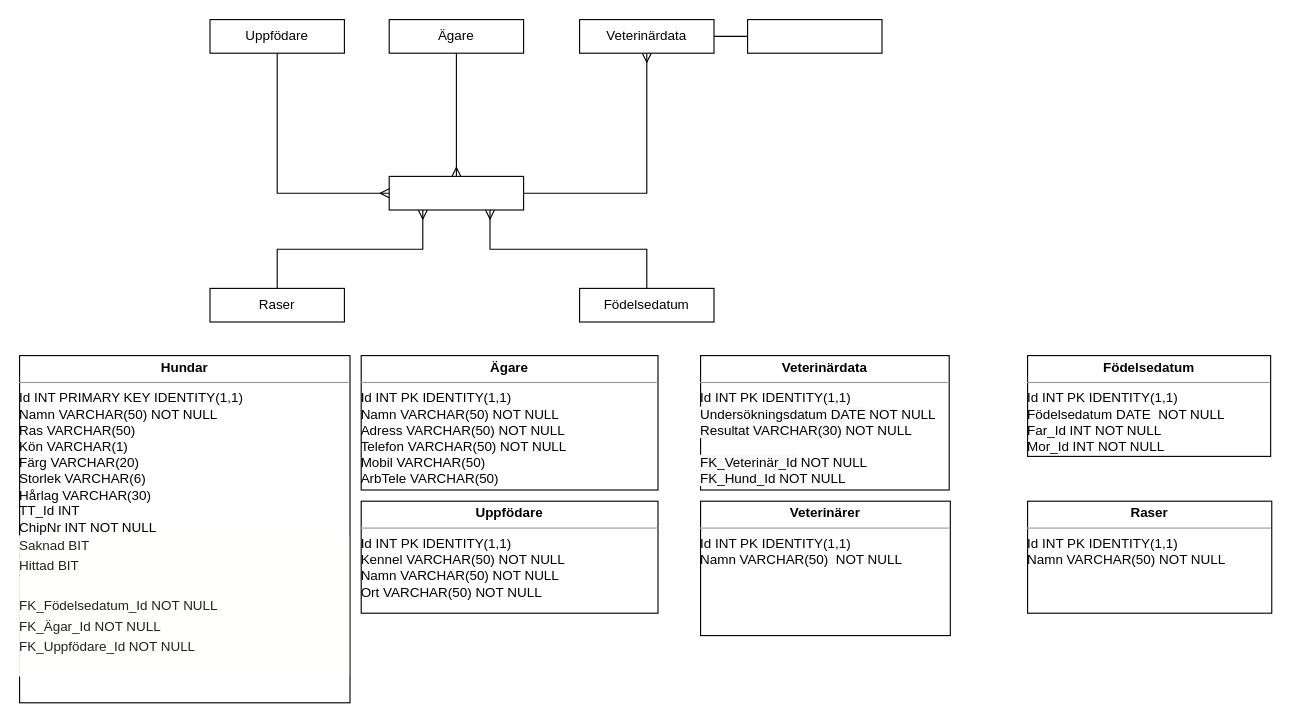
Image size: 1291x722. Some labels were removed from this diagram. The shapes that lost their labels are listed below. From the top down, each one's centre as x and y in pixels, then its label:
At (814,35): "Veterinärer".
At (456,192): "Hundar".
